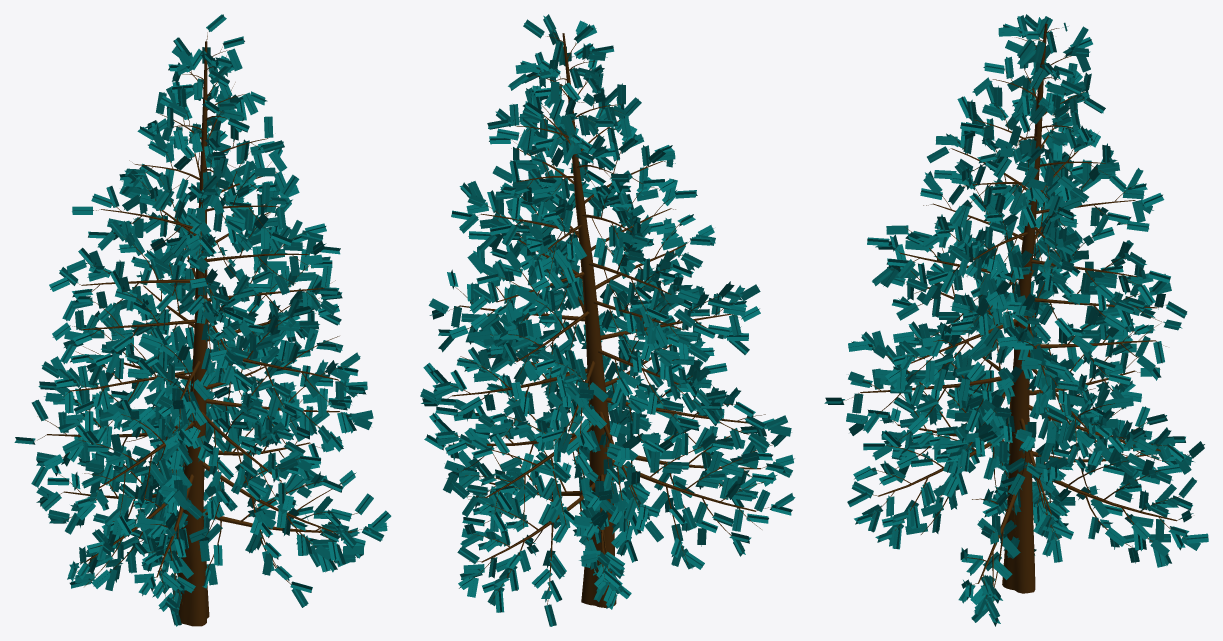
Rendered from Arbol2.fbx.
The picture shows the model from 3 angles, left to right: view 1: azimuth 30°, elevation 25°; view 2: azimuth 150°, elevation 25°; view 3: azimuth 270°, elevation 25°; orthographic projection. The views are drawn at different scales.
Visible parts, largest first — view 1: Árbol3; view 2: Árbol3; view 3: Árbol3.
Part boxes in pixels (x1,y1,x2,y2): Árbol3: [14, 14, 391, 626]; Árbol3: [420, 14, 795, 626]; Árbol3: [824, 14, 1208, 626].
Size of the model in its own units: 265 by 446 by 264.
